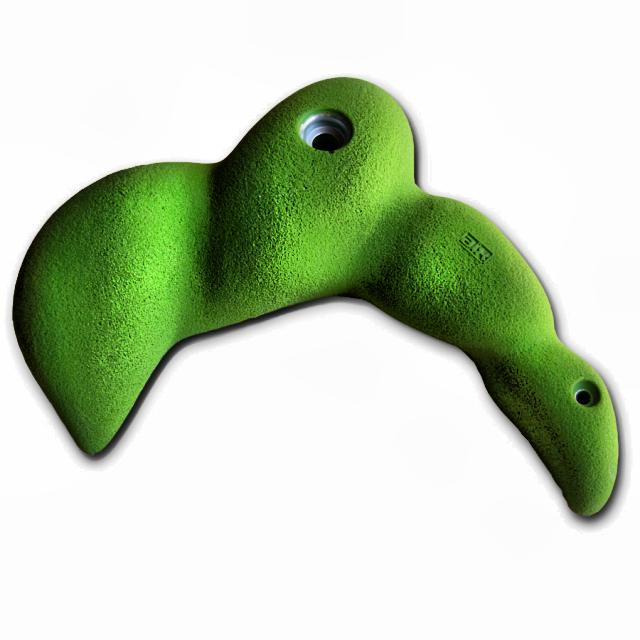Hold: (0, 48, 640, 545)
